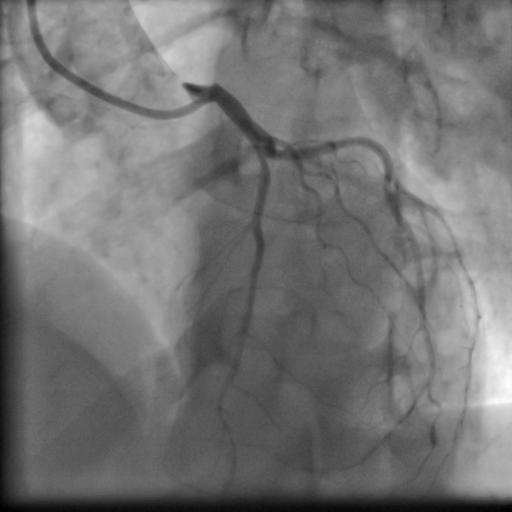Stenosis: (250, 144, 267, 179)
